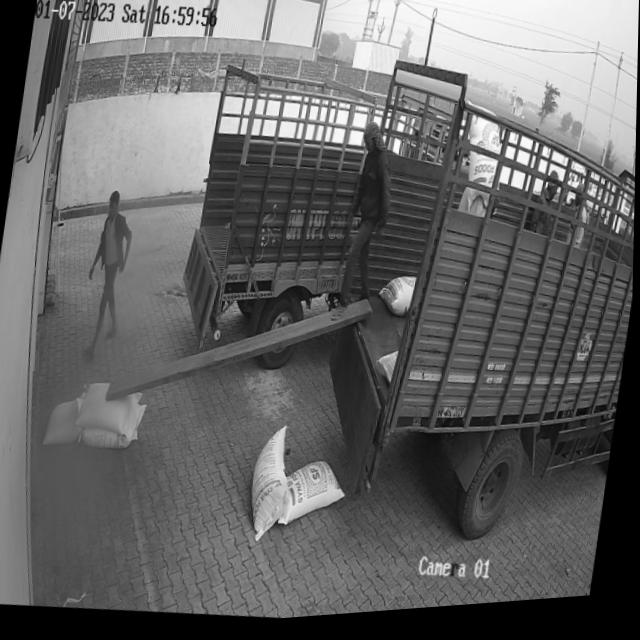sack: (246, 425, 301, 548), (280, 459, 351, 535), (76, 378, 145, 440), (81, 396, 148, 455), (44, 395, 87, 450)
